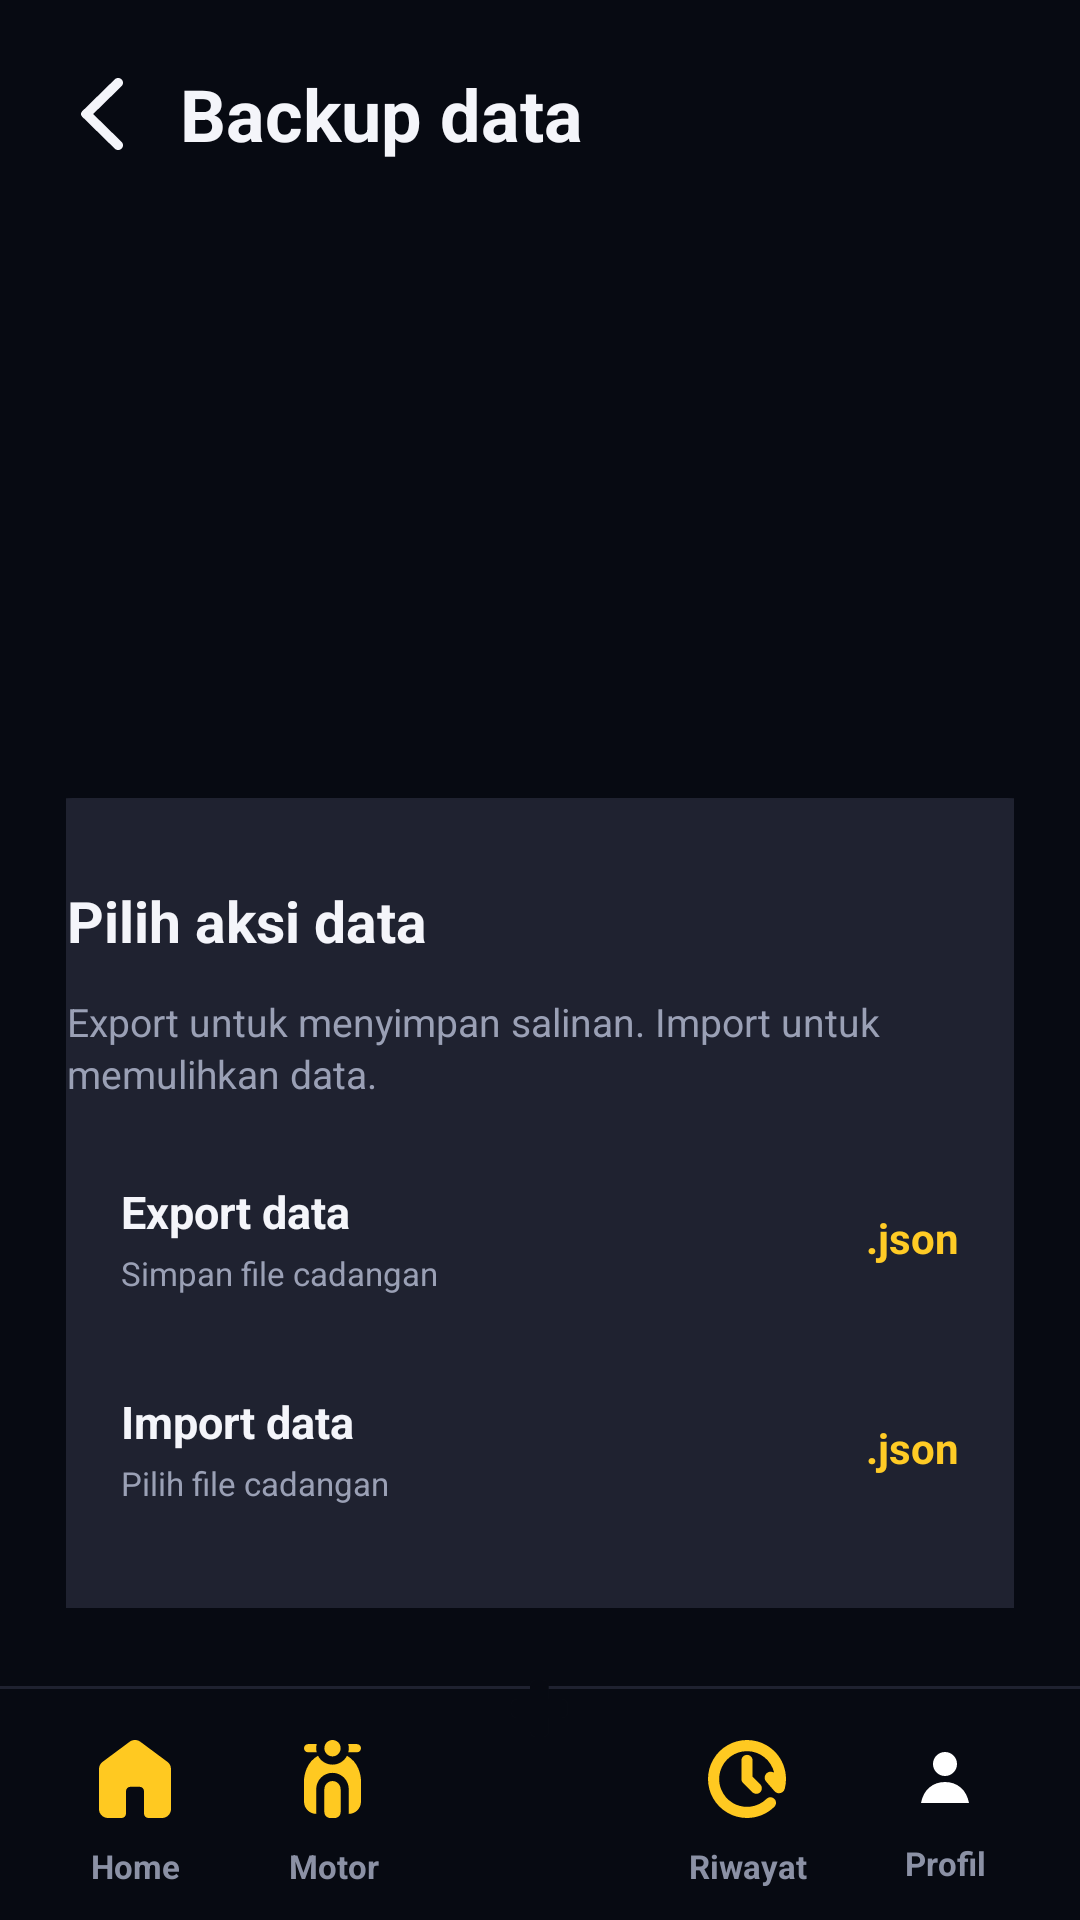

Screen size 1080 × 1920. Icon name, then its box in pixels as box(x1, y1, x2, y2):
Kembali: box(81, 78, 123, 150)
